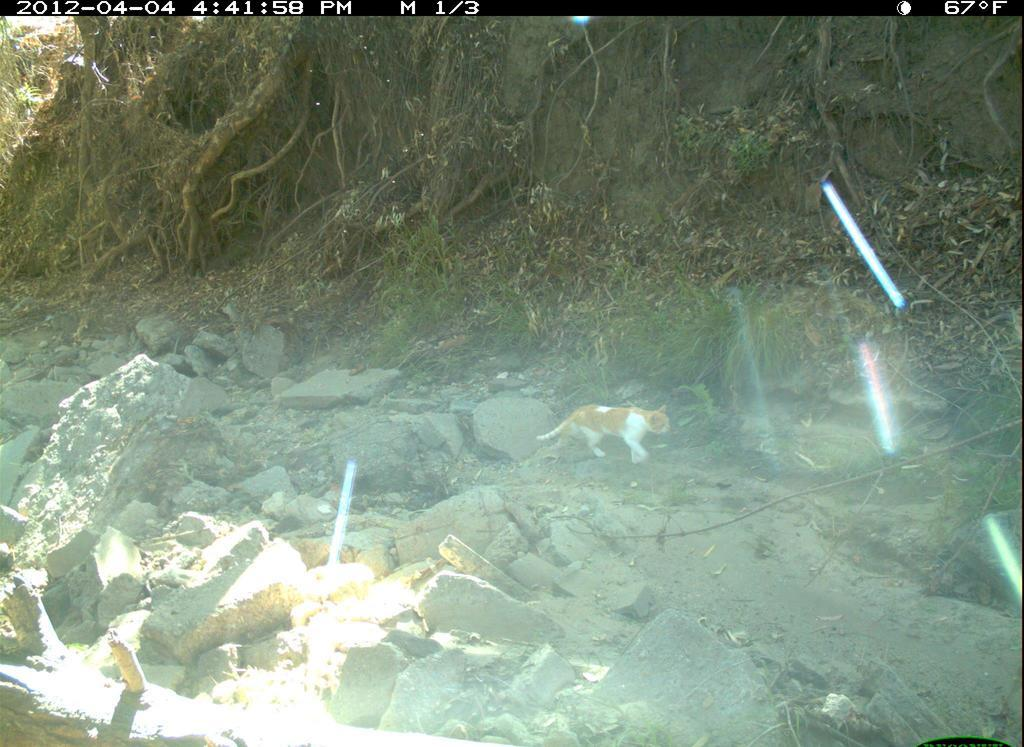cat: (528, 396, 701, 482)
